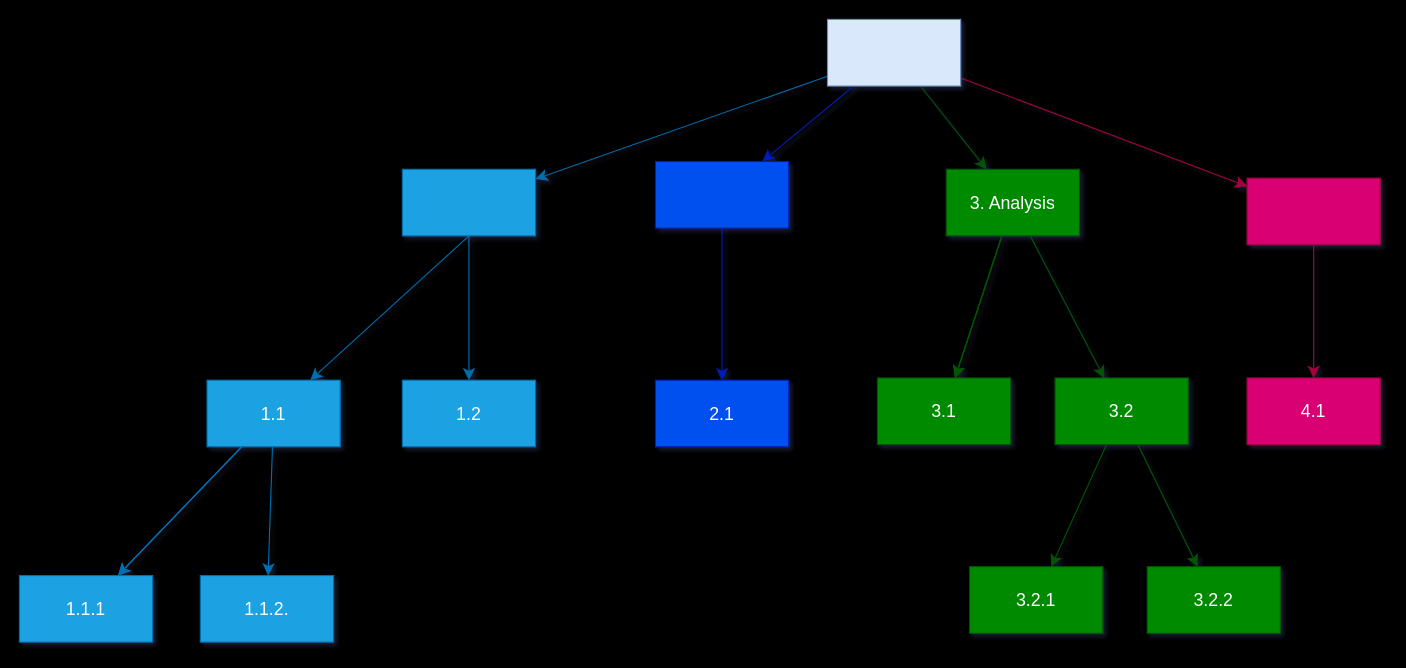
The diagram is 1406 pixels wide and 668 high, and some of its shapes have lost their labels. Each missing label, with the box of its shape:
1. Central: (401, 168, 536, 236)
2. Node: (654, 160, 789, 228)
4. Testing & Deployment: (1246, 177, 1380, 245)
FLAME MVP: (826, 18, 961, 86)
